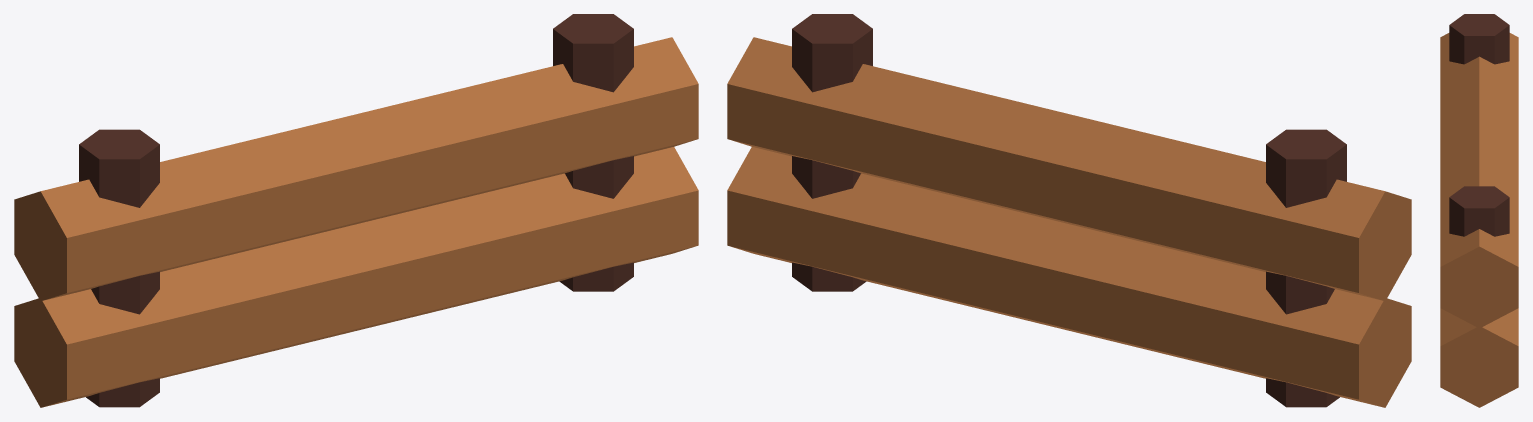
3 views of the same model, side by side, from view 1: azimuth 30°, elevation 25°; view 2: azimuth 150°, elevation 25°; view 3: azimuth 270°, elevation 25° (orthographic). The views are drawn at different scales.
Visible parts, largest first — view 1: root_pal_woodWarm, root_pal_hairBrown; view 2: root_pal_woodWarm, root_pal_hairBrown; view 3: root_pal_woodWarm, root_pal_hairBrown.
Part boxes in pixels (x1,y1,x2,y2): root_pal_woodWarm: [14, 37, 698, 407]; root_pal_hairBrown: [79, 14, 633, 407]; root_pal_woodWarm: [727, 37, 1411, 407]; root_pal_hairBrown: [792, 14, 1346, 407]; root_pal_woodWarm: [1440, 33, 1518, 407]; root_pal_hairBrown: [1449, 14, 1509, 236].
Size of the model in its own units: 3.6 by 1.35 by 0.5196.
